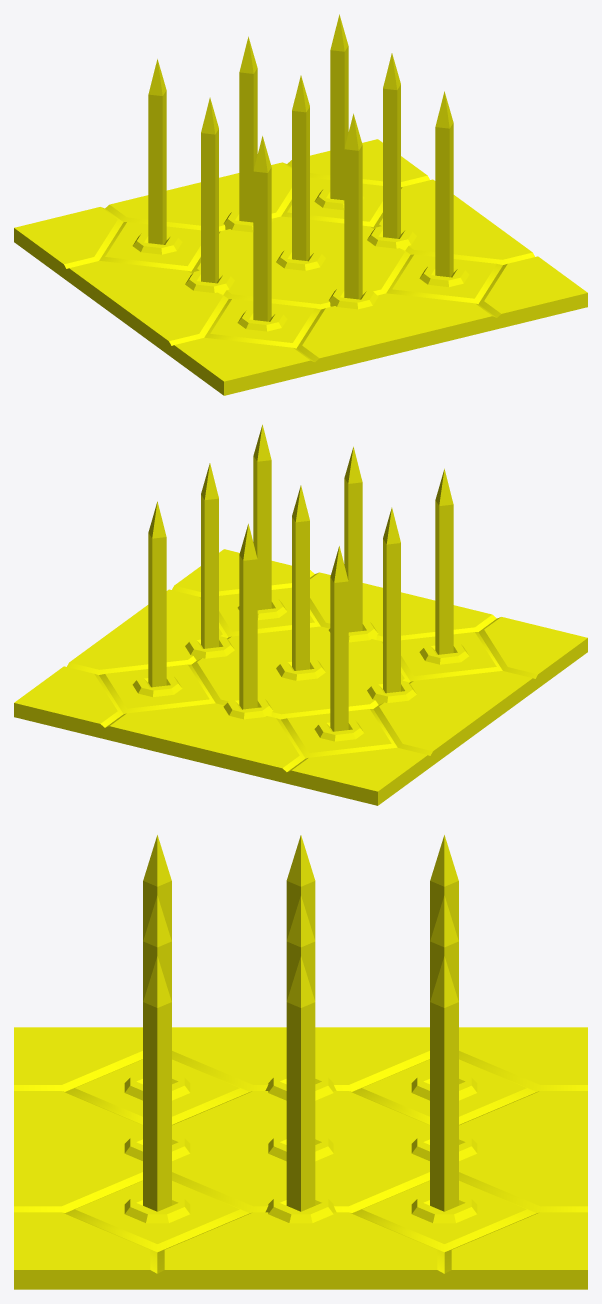
Rendered from kaykit-floor-tile-big-spikes.glb.
The picture shows the model from 3 angles, top to bottom: view 1: azimuth 30°, elevation 25°; view 2: azimuth 150°, elevation 25°; view 3: azimuth 270°, elevation 25°; orthographic projection. The views are drawn at different scales.
Parts seen in each view (by area): view 1: floor_tile_big_spikes; view 2: floor_tile_big_spikes; view 3: floor_tile_big_spikes.
Part boxes in pixels (x1,y1,x2,y2): floor_tile_big_spikes: [14, 14, 587, 395]; floor_tile_big_spikes: [14, 424, 587, 805]; floor_tile_big_spikes: [14, 835, 587, 1289].
Size of the model in its own units: 4 by 2.1 by 4.
